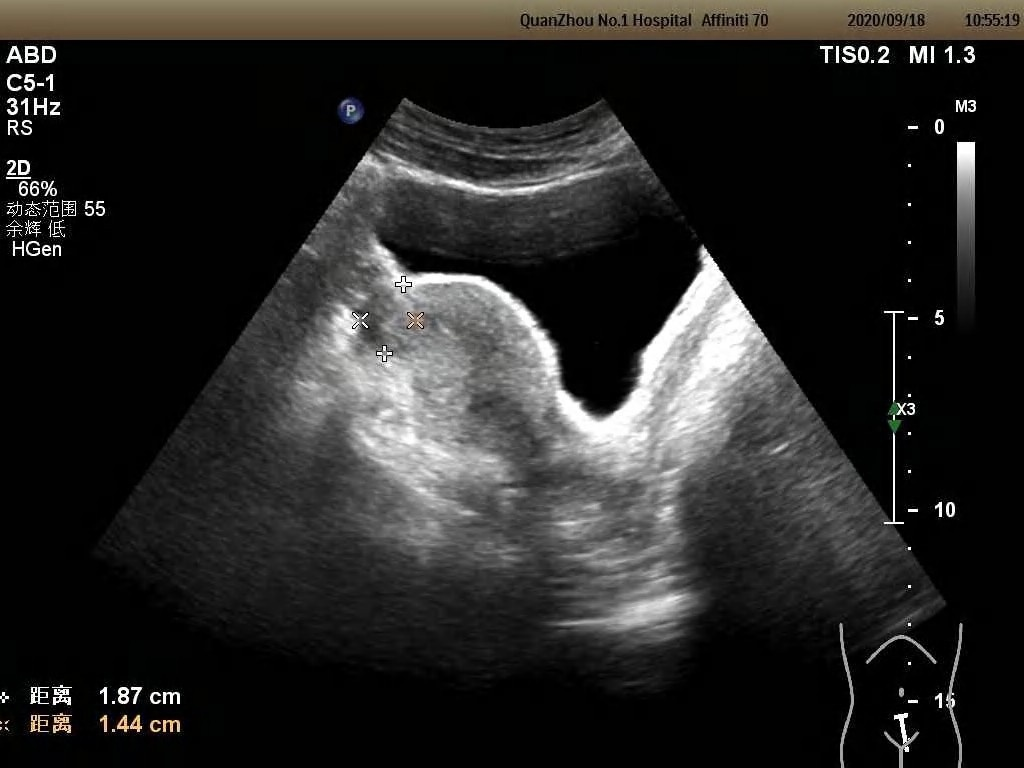肌瘤: (358, 283, 416, 354)
